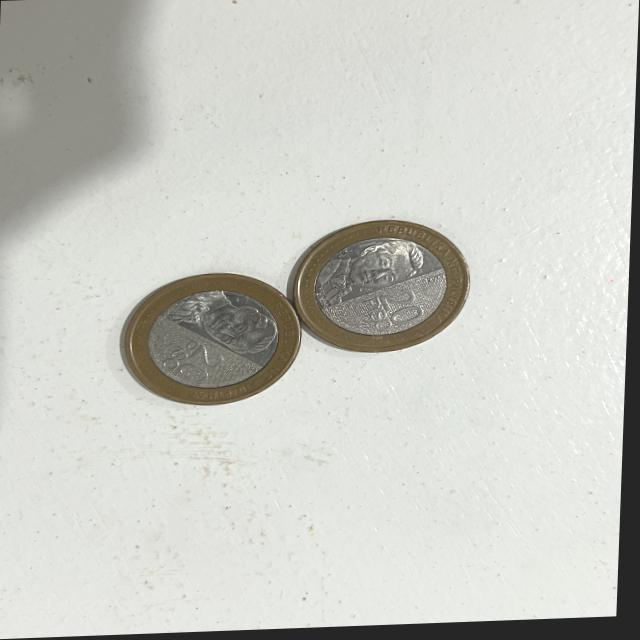20_New_Front: (155, 329, 229, 387), (354, 292, 429, 334)
